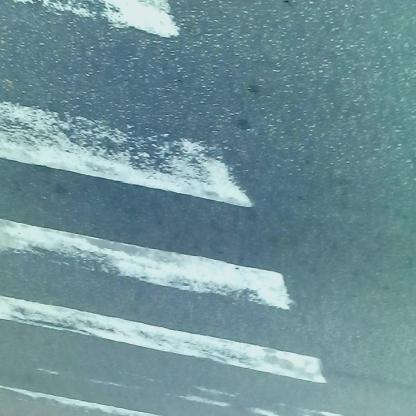crosswalk: (3, 2, 346, 408)
